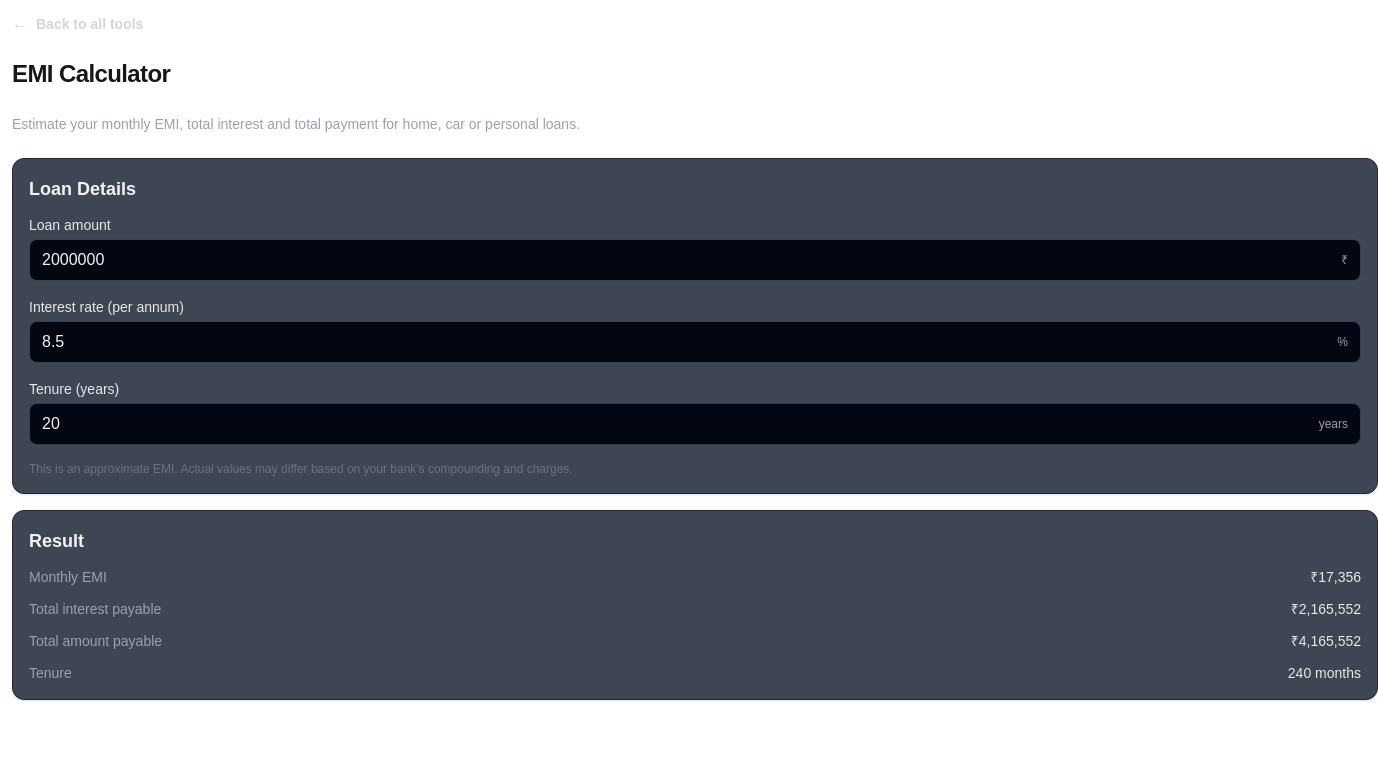
EmiCalculatorPage › updates the EMI calculation when the loan details change
The image size is (1378, 780).
Replace the text in the number field labelled "Loan amount ₹" with "500000" at (688, 260), box [42,248,1333,272]
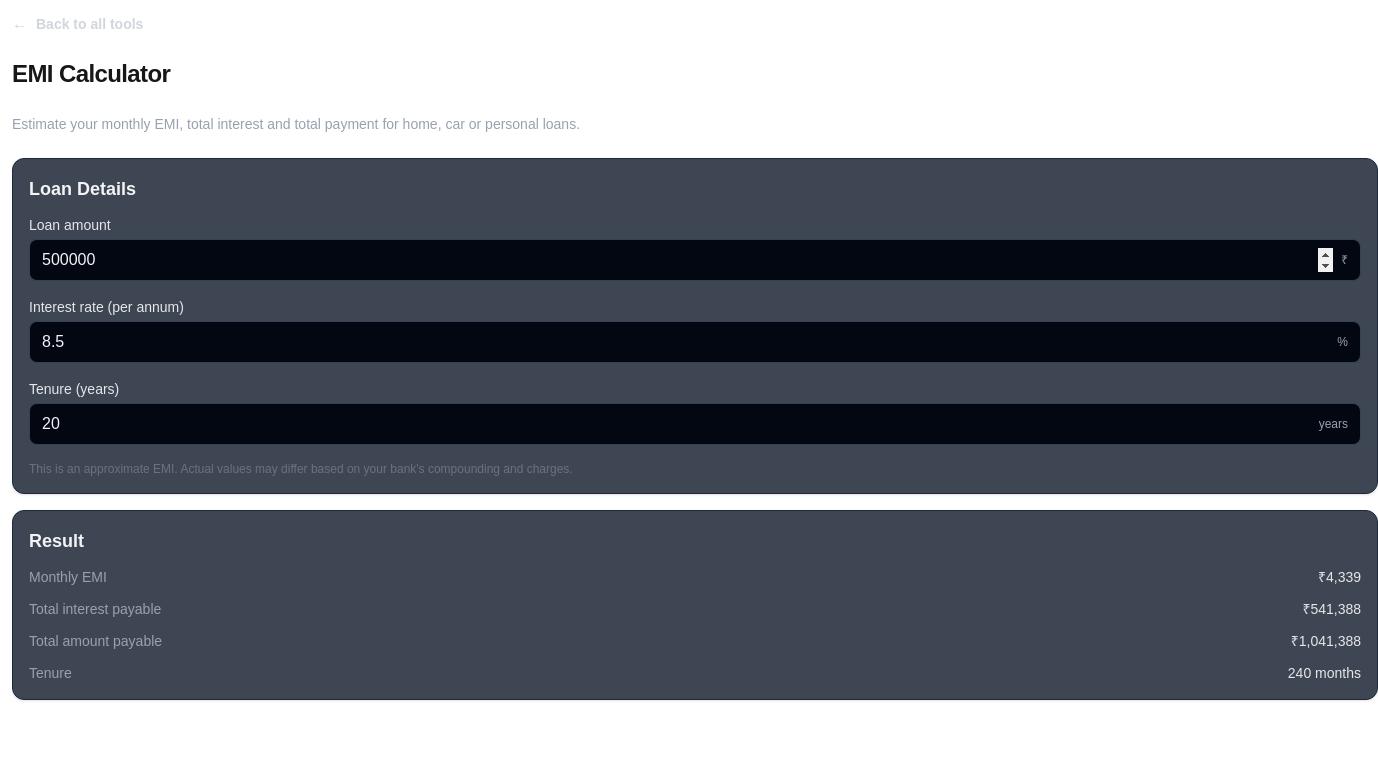
Replace the text in the number field labelled "Interest rate (per annum) %" with "7.5" at (686, 342), box [42,330,1329,354]
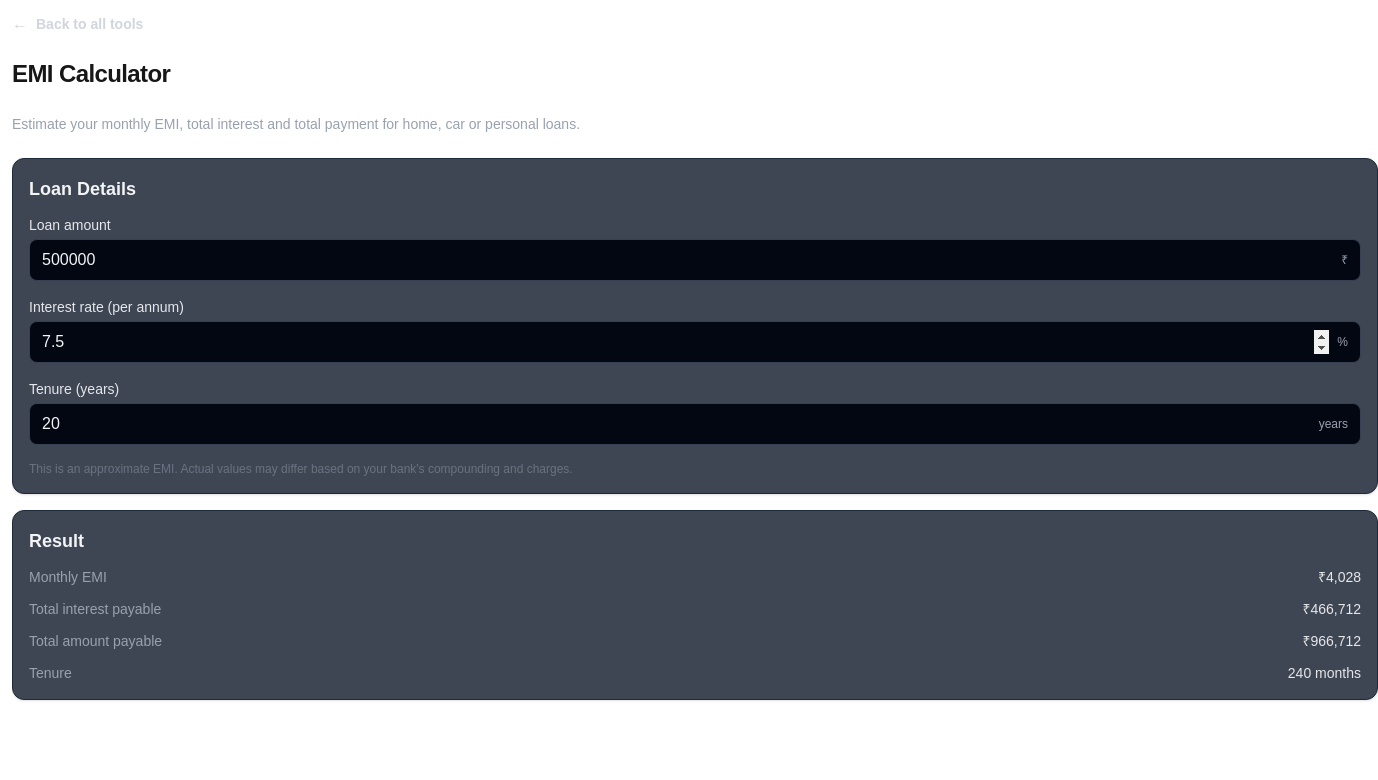
Replace the text in the number field labelled "Tenure (years) years" with "15" at (676, 424), box [42,412,1311,436]
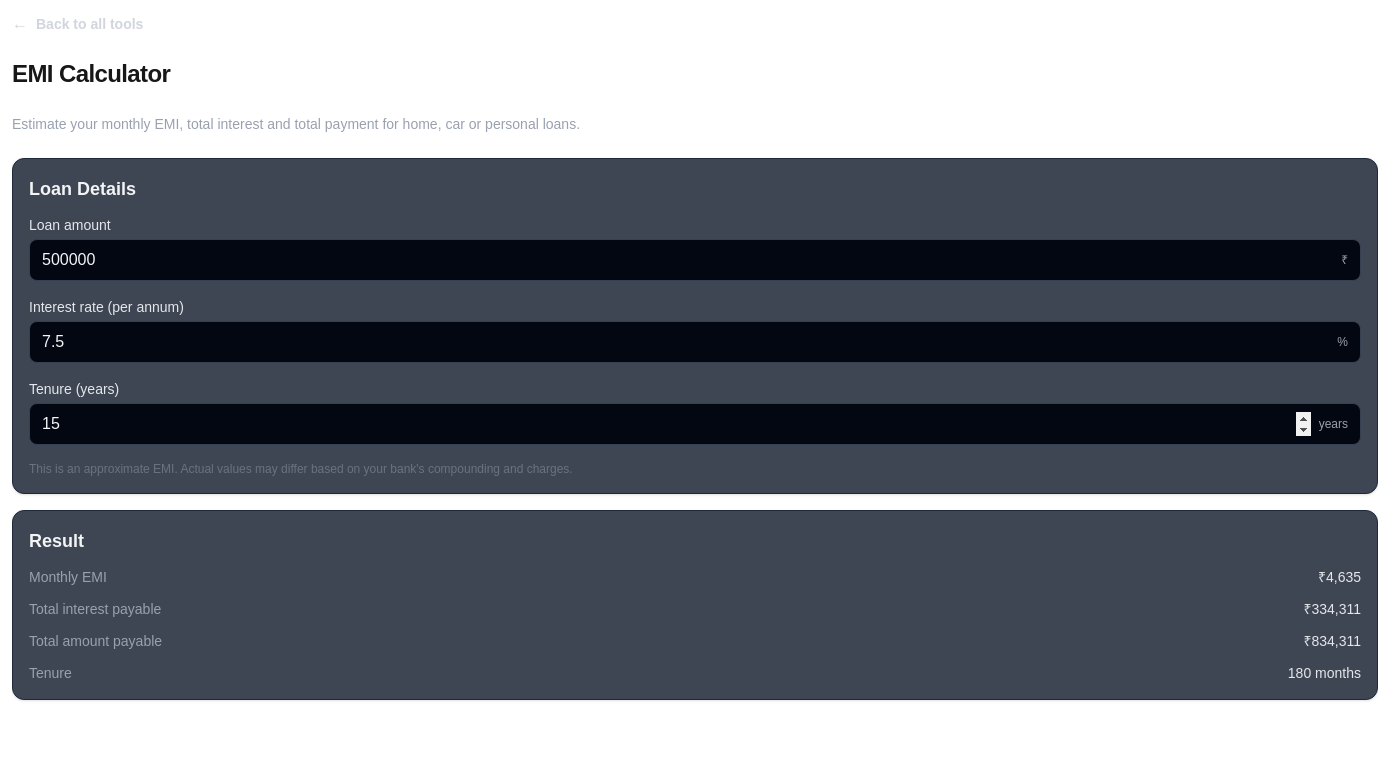
Check: the text "180 months" is shown, box [1288,663,1361,683]
